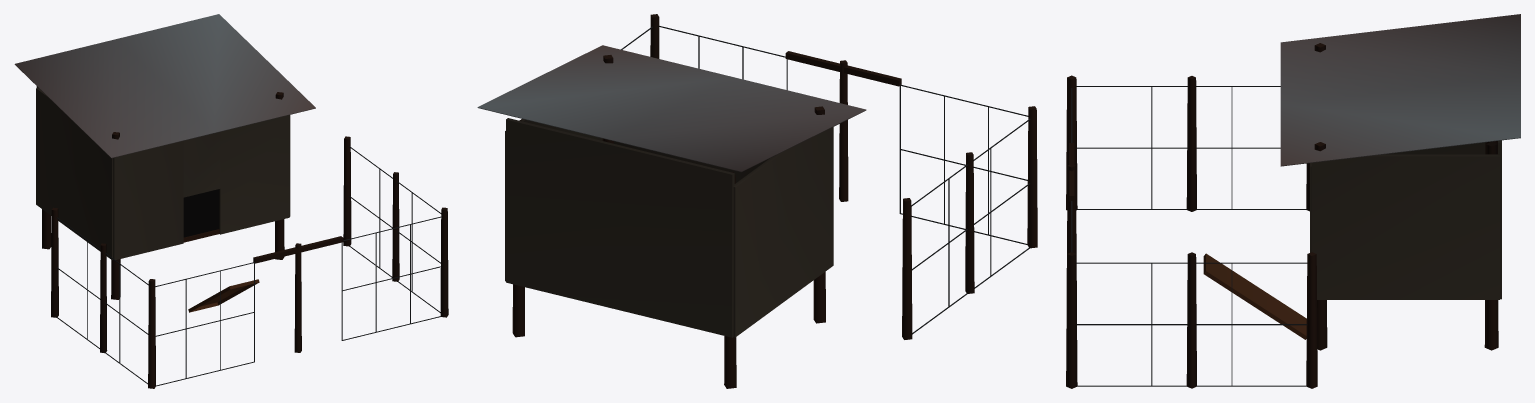
Rendered from fm_coop_lod1.glb.
The picture shows the model from 3 angles, left to right: view 1: azimuth 30°, elevation 25°; view 2: azimuth 150°, elevation 25°; view 3: azimuth 270°, elevation 25°; orthographic projection. The views are drawn at different scales.
Visible parts, largest first — view 1: fm_coop_lod1; view 2: fm_coop_lod1; view 3: fm_coop_lod1.
Part boxes in pixels (x1=…): fm_coop_lod1: x1=14, y1=14, x2=448, y2=388; fm_coop_lod1: x1=477, y1=14, x2=1037, y2=388; fm_coop_lod1: x1=1066, y1=14, x2=1520, y2=388.
Size of the model in its own units: 4.11 by 2.7 by 4.36.
